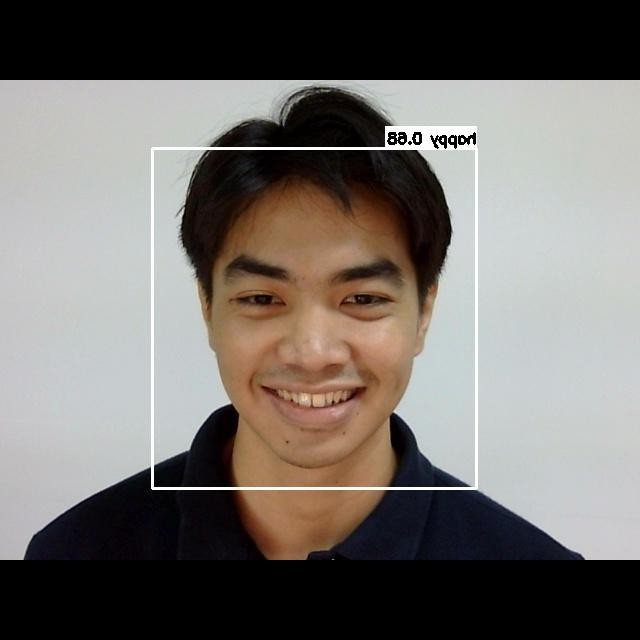Happy: (203, 221, 423, 438)
